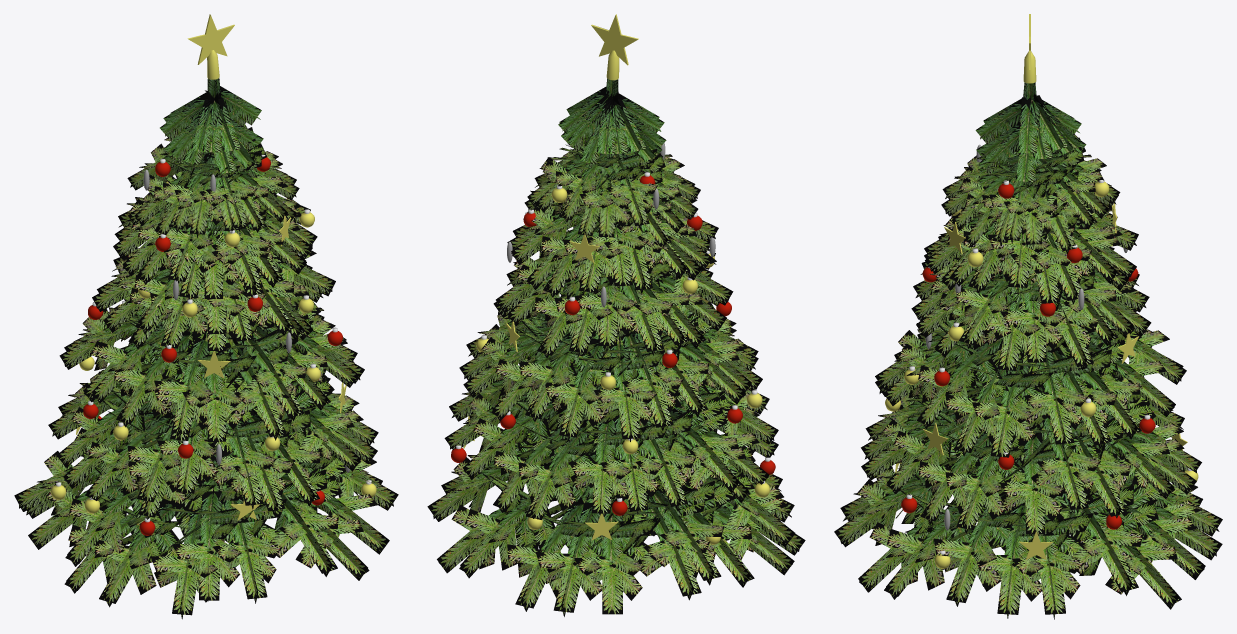
File: sh_scopia_christmas_tree.glb
3 views of the same model, side by side, from view 1: azimuth 30°, elevation 25°; view 2: azimuth 150°, elevation 25°; view 3: azimuth 270°, elevation 25° (orthographic). The views are drawn at different scales.
Size of the model in its own units: 1.28 by 2.03 by 1.3.
Materials: 6 (1 with a texture image).
